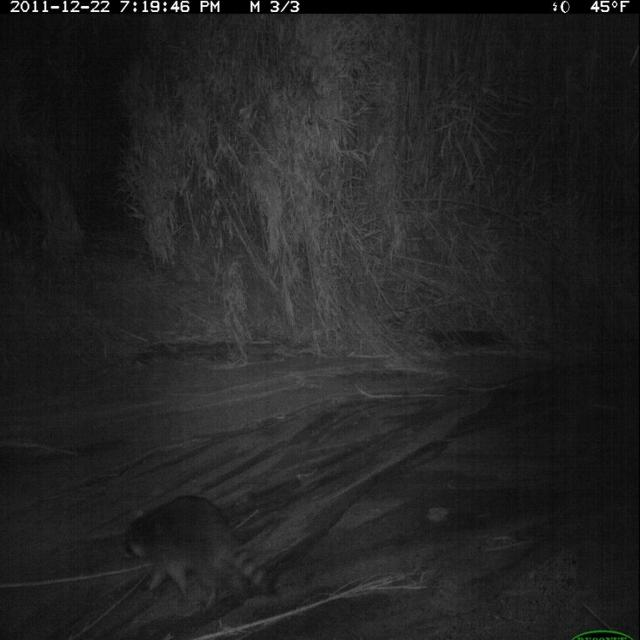raccoon: (113, 487, 289, 627)
